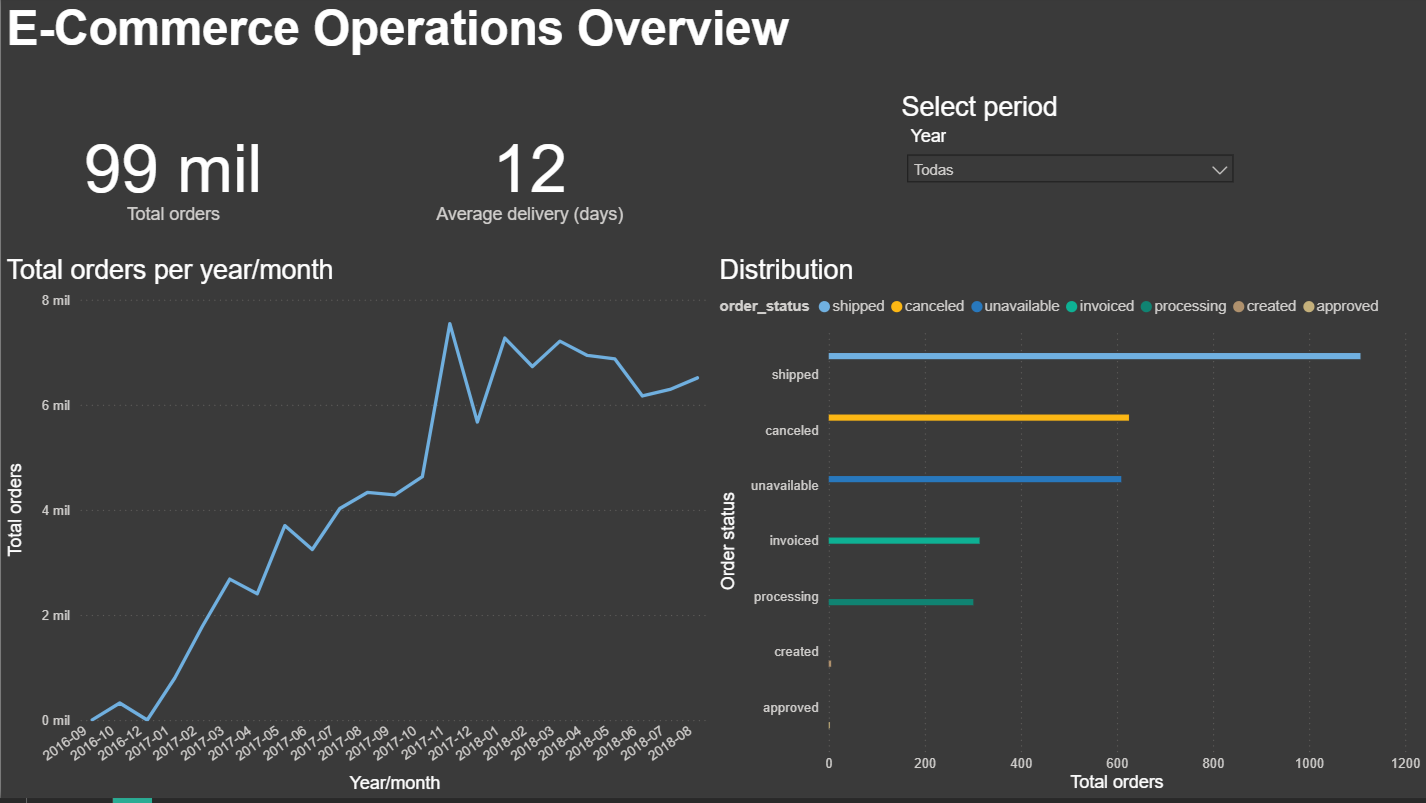

The page's visual inventory and layout, read from the dashboard file:
{"tool":"powerbi","page":{"name":"Página 1","canvas":[1280,720],"ordinal":0},"visuals":[{"type":"card","fields":{"Values":["orders_clean.Total Ordenes"]},"box":[0,85.7,309.3,146.3],"z":0},{"type":"card","fields":{"Values":["orders_clean.Promedio Entrega Dias"]},"box":[320.8,85.7,308.2,146.3],"z":1000},{"type":"textbox","box":[0,0,730.8,85.3],"z":2000},{"type":"clusteredBarChart","title":"Distribution","fields":{"Category":["orders_clean.order_status"],"Series":["orders_clean.order_status"],"Y":["orders_clean.Total Orders"]},"box":[640.5,232,639.5,488],"z":3000},{"type":"lineChart","title":"Total orders per year/month","fields":{"Y":["orders_clean.Total orders"],"Category":["Calendar.Year-Month"]},"box":[0,231.6,640.1,488.4],"z":4000},{"type":"slicer","title":"Select period","fields":{"Values":["Calendar.Year"]},"box":[803.5,85.3,313.3,146.3],"z":4001}]}

Visuals, with their boxes in screenshot pixels (x1, y1, x2, y2), scaled from the page's 1280x720 canvas onto the 1426x803 screenshot:
card - orders_clean.Total Ordenes: locate(0, 96, 345, 259)
card - orders_clean.Promedio Entrega Dias: locate(357, 96, 701, 259)
textbox: locate(0, 0, 814, 95)
"Distribution" clusteredBarChart: locate(714, 259, 1425, 802)
"Total orders per year/month" lineChart: locate(0, 258, 713, 802)
"Select period" slicer: locate(895, 95, 1244, 258)
